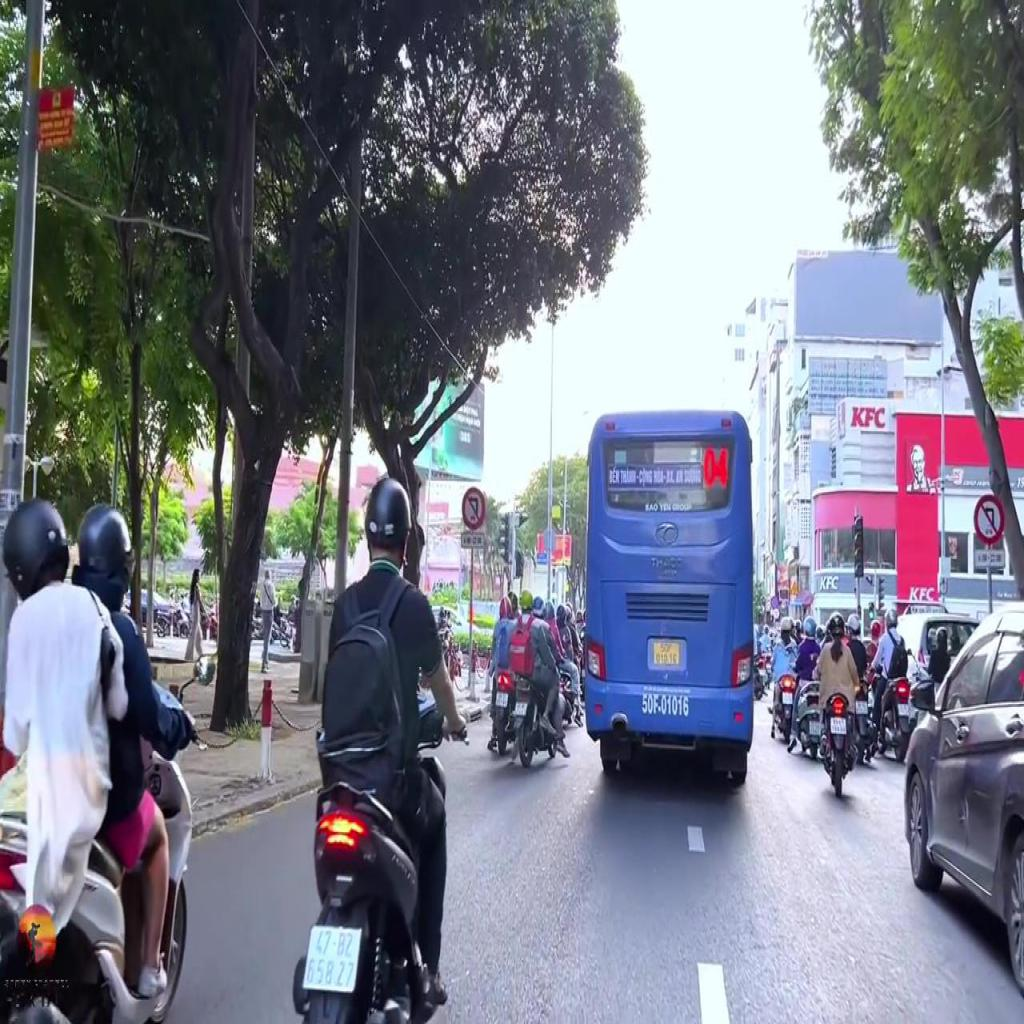cam_o_to_re_trai: (974, 495, 1006, 545), (462, 486, 485, 529)
khac: (974, 547, 1005, 569), (462, 533, 483, 549)
